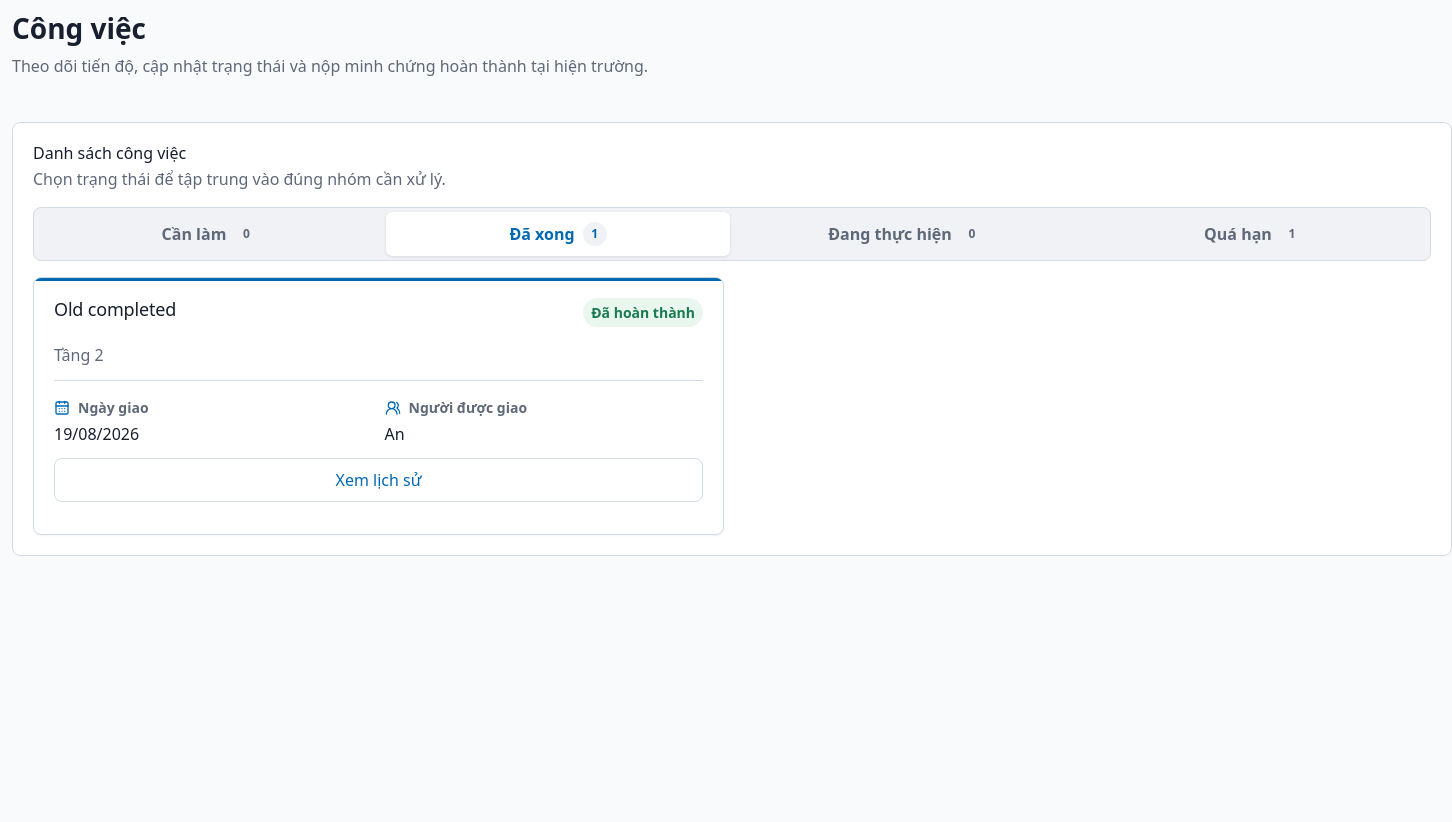
Test: Task grouped list › renders status tabs and keeps server overdue membership authoritative
expect the element named "Trạng thái công việc" is shown: met, box x1=33 y1=207 x2=1431 y2=261
Press the mouse on the tab "Quá hạn 1" at (1254, 234), box x1=1082 y1=212 x2=1426 y2=256
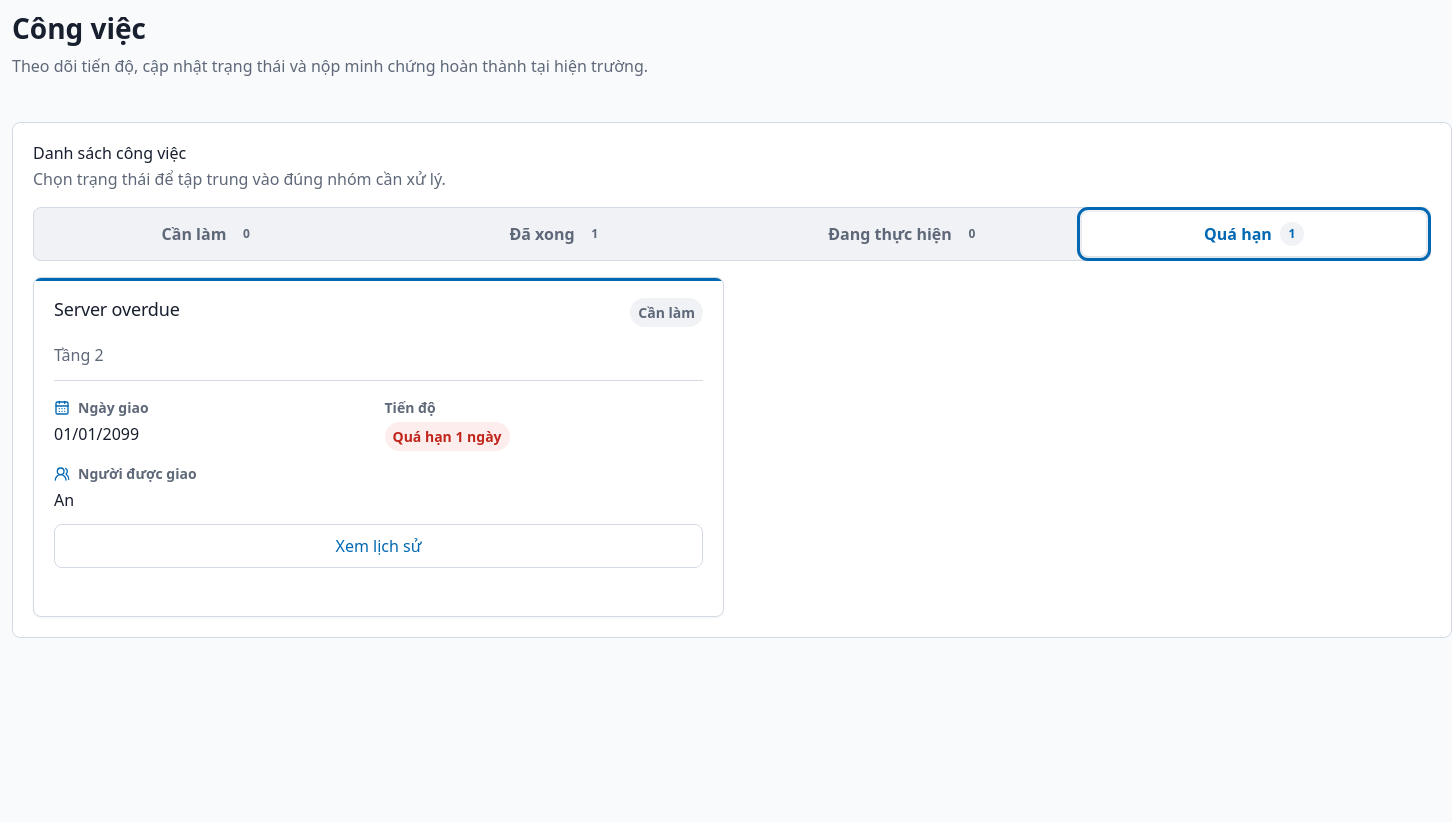
expect the heading "Server overdue" is shown: met, box x1=54 y1=297 x2=180 y2=321
Press the mouse on the tab "Đã xong 1" at (558, 234), box x1=386 y1=212 x2=730 y2=256
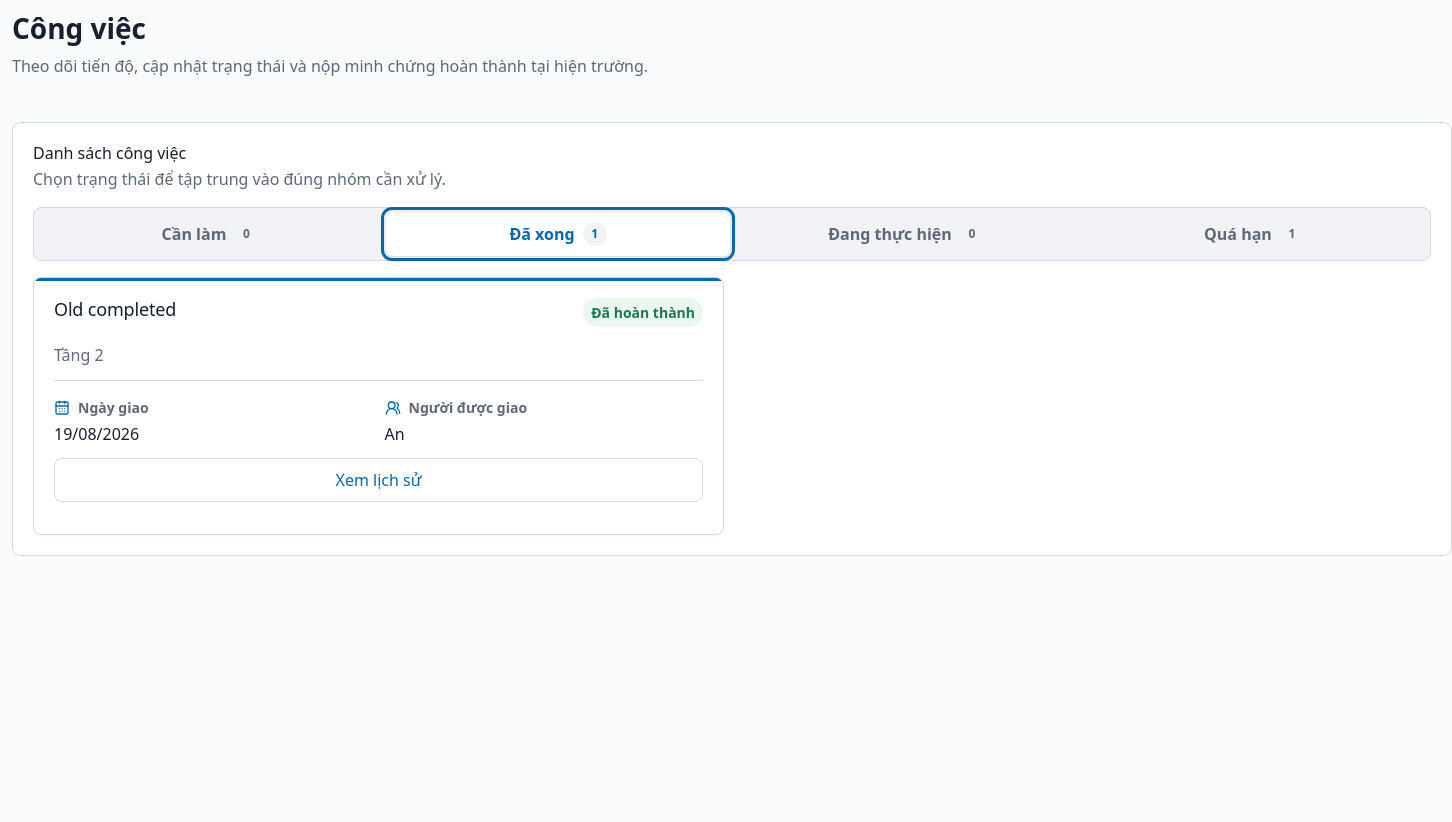
expect the heading "Old completed" is shown: met, box x1=54 y1=297 x2=176 y2=321
